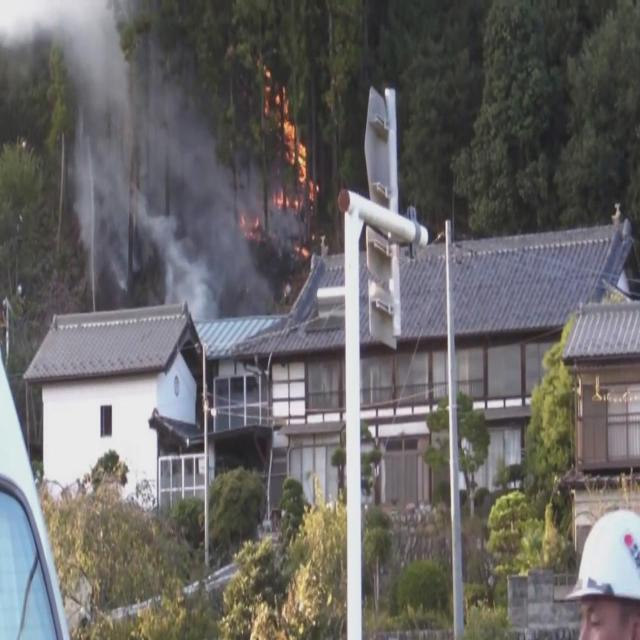Fire: (263, 68, 324, 210), (239, 212, 260, 240), (295, 243, 310, 257)
